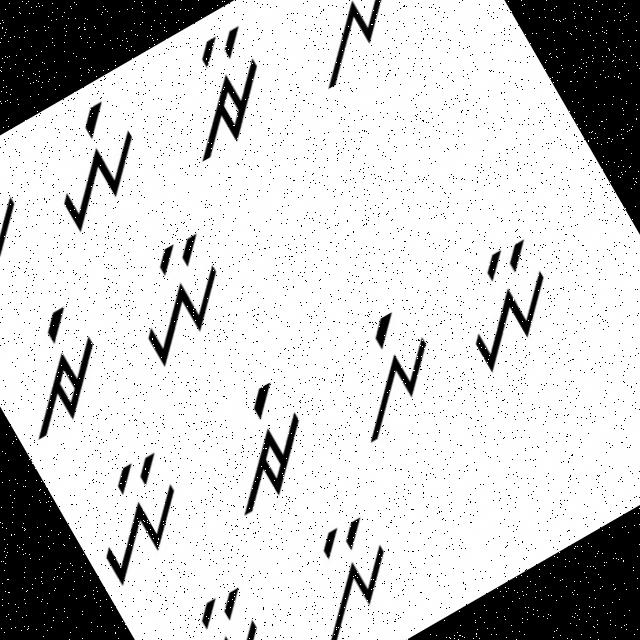lan: (259, 492, 431, 639), (0, 156, 52, 312)
lang: (307, 290, 462, 450), (263, 0, 434, 107)
ran: (142, 11, 295, 173), (141, 571, 295, 639)
rang: (185, 366, 338, 524), (0, 289, 138, 453)
yan: (100, 215, 259, 375), (426, 225, 586, 384), (60, 438, 216, 596)
yang: (13, 87, 170, 240)
